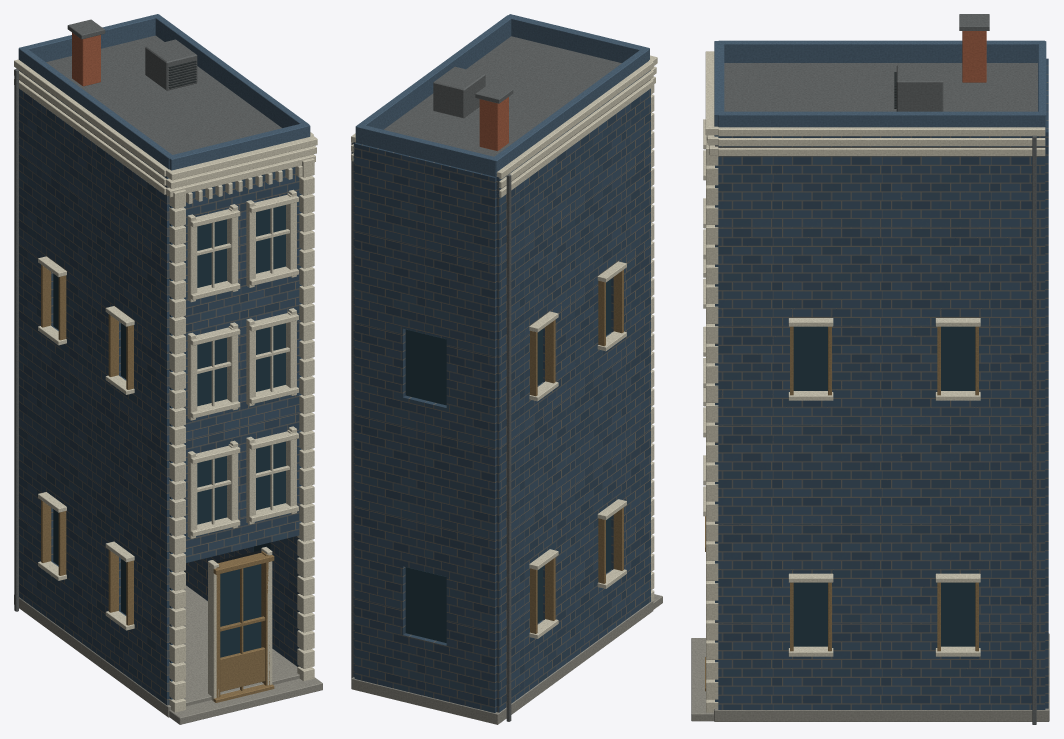
File: OFFC13_lod1.glb
3 renders of one model, left to right at view 1: azimuth 30°, elevation 25°; view 2: azimuth 150°, elevation 25°; view 3: azimuth 270°, elevation 25°, orthographic. The views are drawn at different scales.
Visible parts, largest first — view 1: OFFC13_LOD1; view 2: OFFC13_LOD1; view 3: OFFC13_LOD1.
Part boxes in pixels (left/top/right/bottom): OFFC13_LOD1: left=14, top=14, right=322, bottom=724; OFFC13_LOD1: left=351, top=14, right=662, bottom=724; OFFC13_LOD1: left=691, top=14, right=1049, bottom=724.
Size of the model in its own units: 3.71 by 13.05 by 6.57.
Materials: 10 (8 with a texture image).
